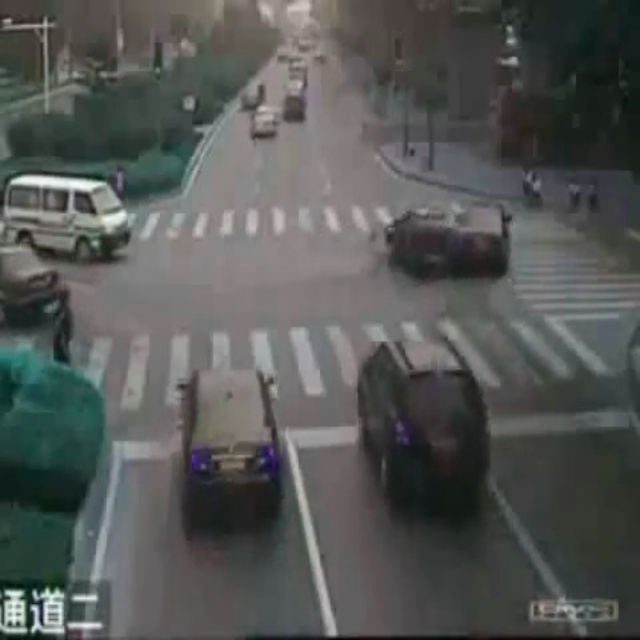acc: (383, 198, 514, 275)
